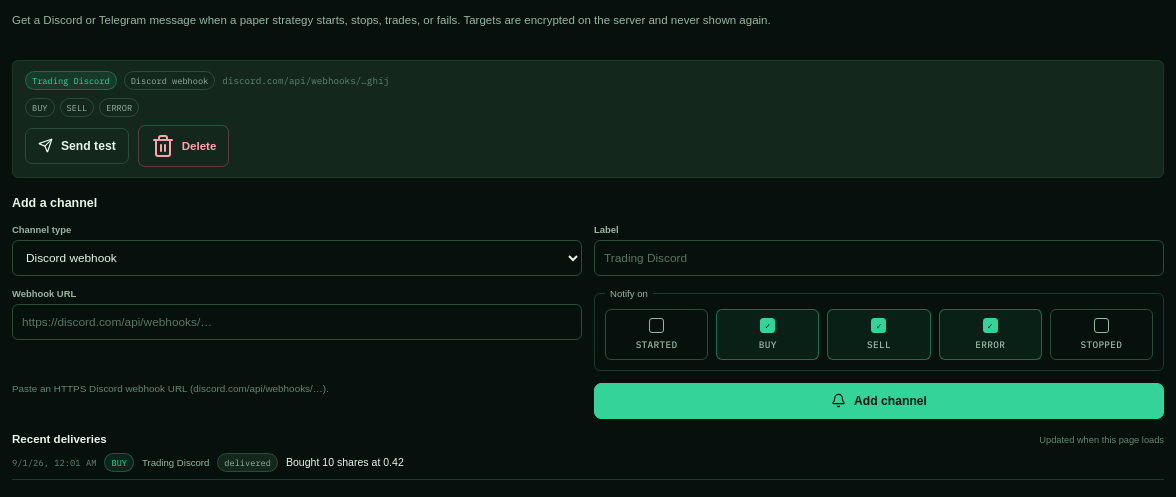
Scenario: AlertsSettings › deletes a channel after confirmation and removes it from the list
The width and height of the screenshot is (1176, 497).
Click the button with aria-label "Delete Trading Discord".
click(184, 146)  # box [138,125,229,167]
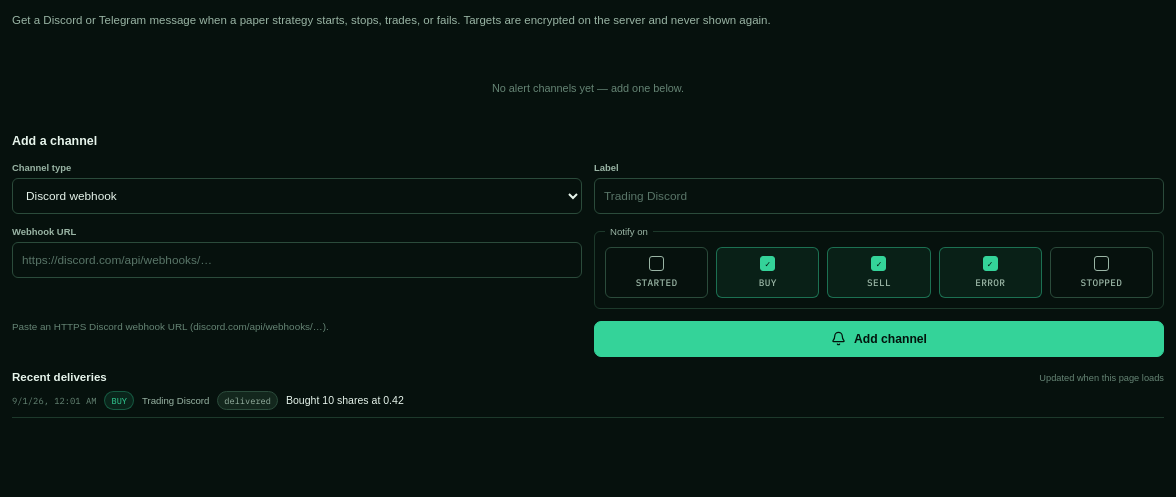
Expected: the text "No alert channels yet — add one below." is shown, [492,82,684,94]
